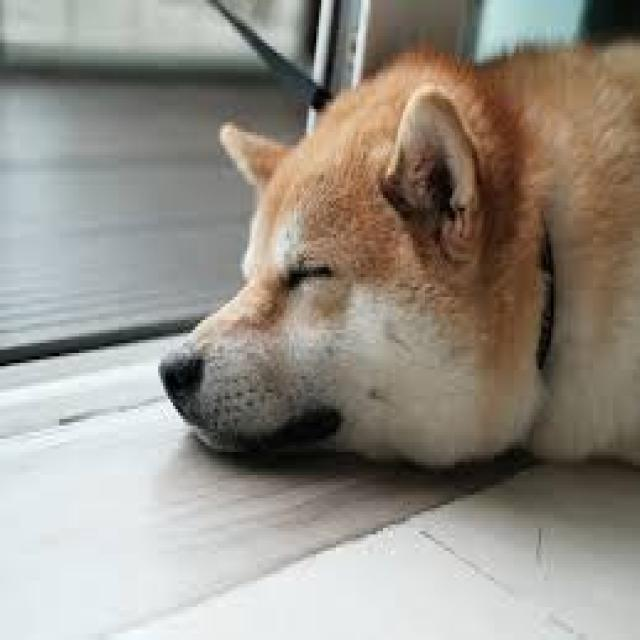Shiba-Inu: (161, 43, 640, 467)
